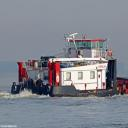tugboat: (10, 33, 121, 100)
